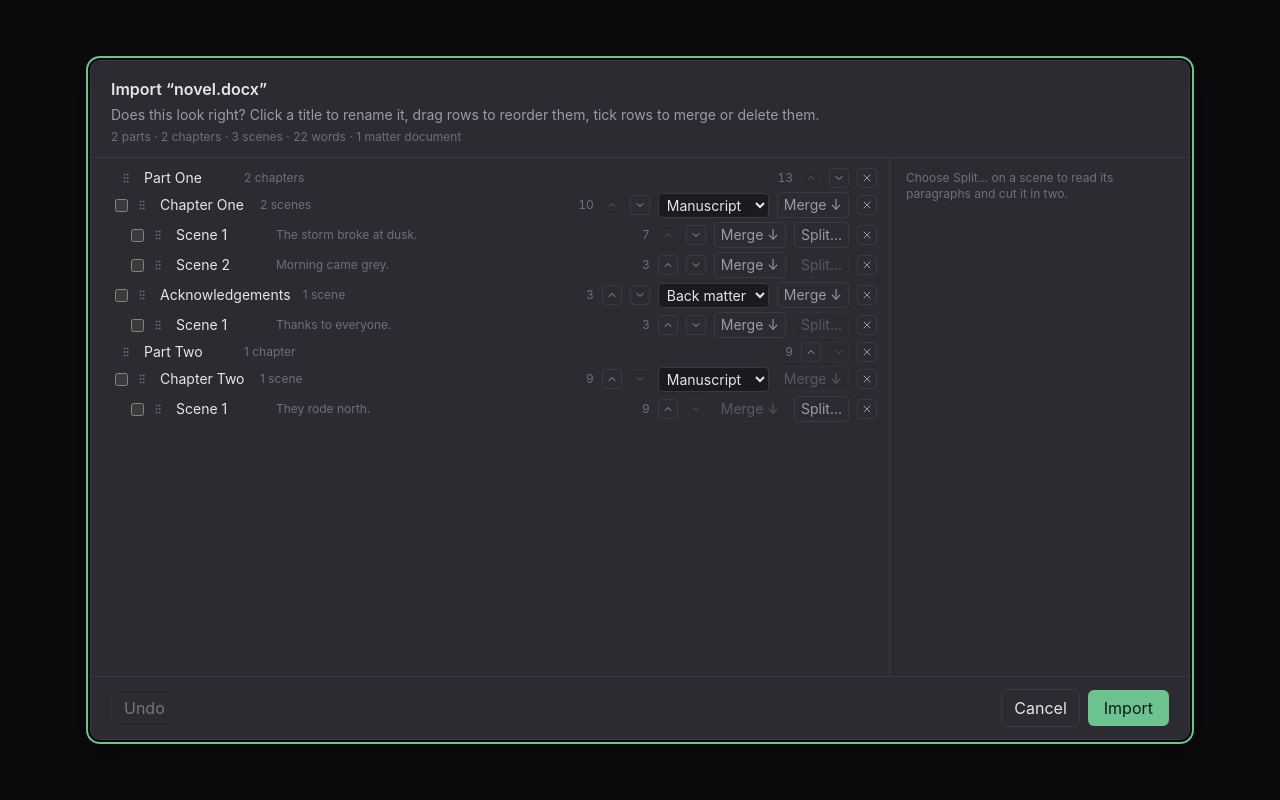
ImportDialog (F-12.2) › ticks scenes (Shift for a range) and merges them into one from the selection bar
Click the checkbox named "Select scene Scene 1" in the row of "The storm broke at dusk.".
click(138, 235)  # box left=131, top=228, right=144, bottom=242
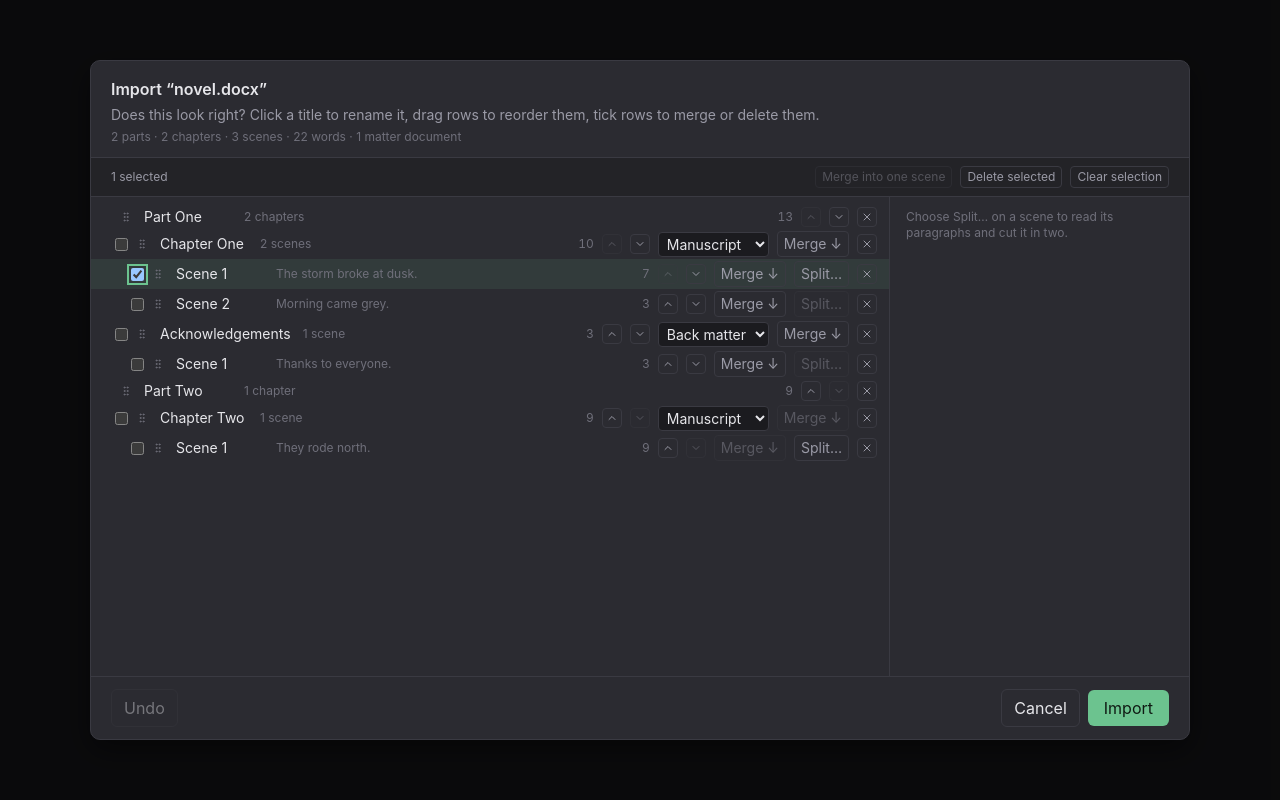
Click the checkbox with test id "import-select" in the row of "Thanks to everyone.".
click(138, 364)  # box left=131, top=358, right=144, bottom=370
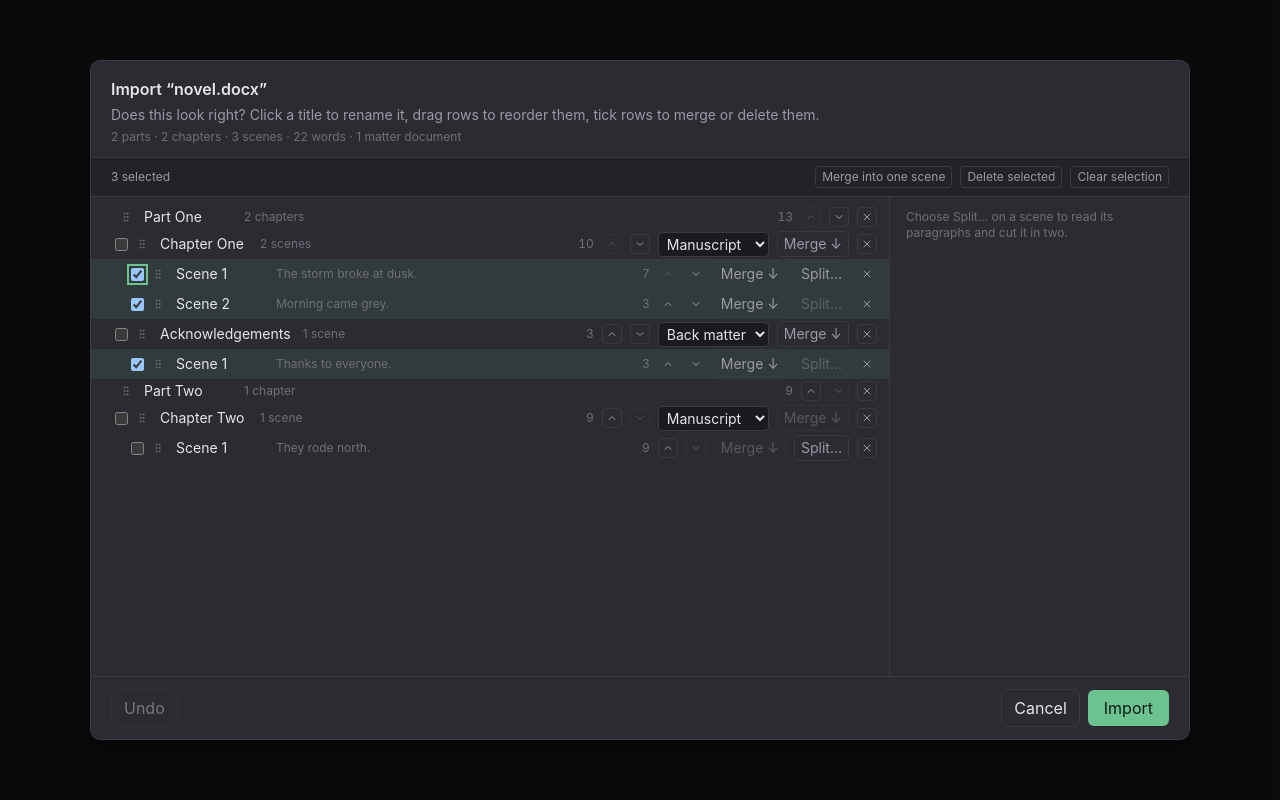
Check: the element with test id "import-selection" shows "3 selected", box left=111, top=169, right=170, bottom=184
Click the button with test id "import-merge-selected".
click(884, 177)  # box left=815, top=166, right=952, bottom=188
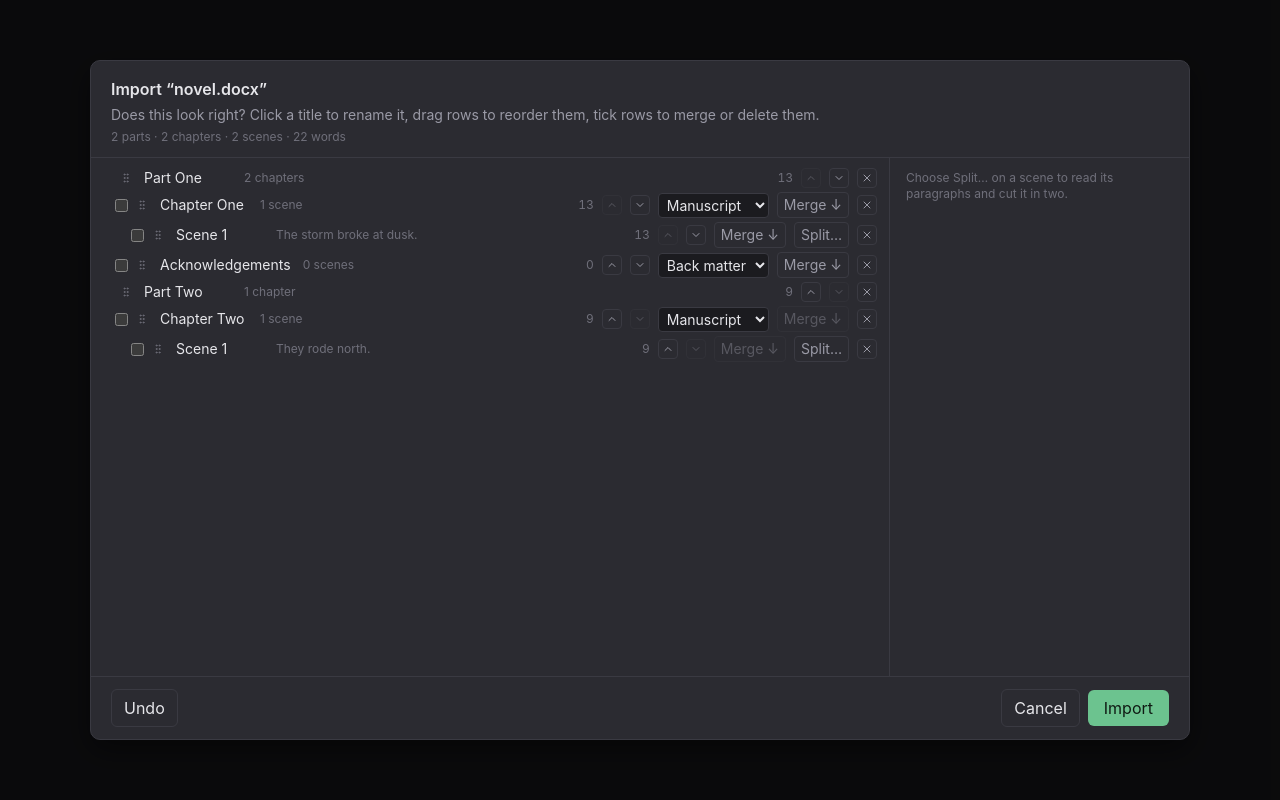
Check: the element with test id "import-selection" is gone
Check: the text with test id "import-summary" shows "2 chapters · 2 scenes", box left=111, top=129, right=346, bottom=144
